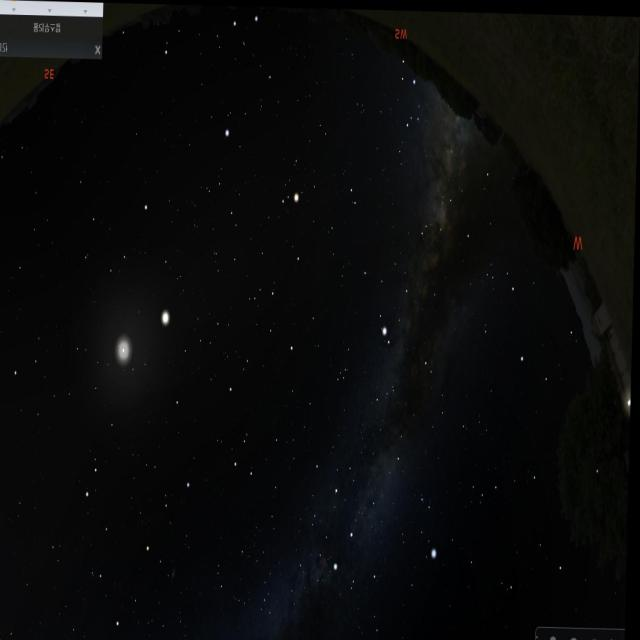aquila: (355, 210, 443, 354)
cygnus: (324, 445, 405, 590)
lyra: (416, 481, 444, 563)
moon: (104, 318, 148, 381)
pleiades: (0, 554, 2, 575)
